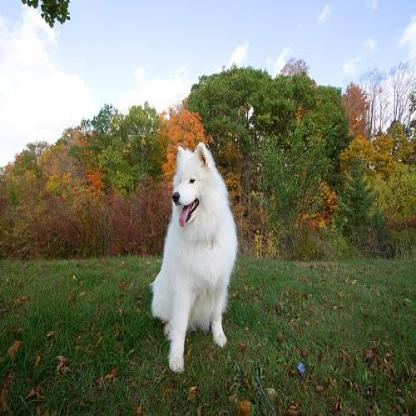Samoyed: (149, 137, 237, 370)
